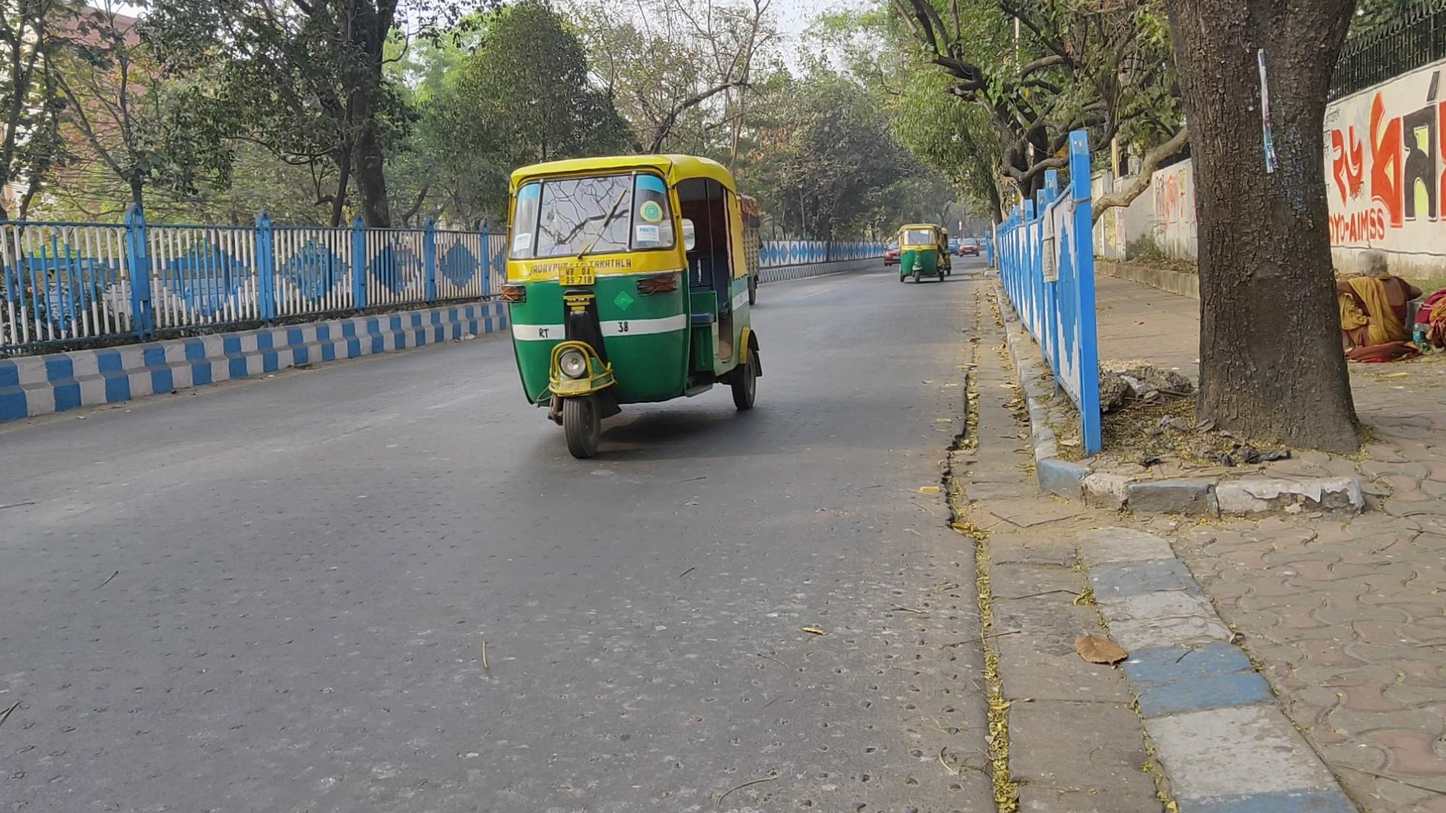Auto: (502, 151, 761, 458), (898, 222, 944, 285)
car: (958, 237, 981, 257)
